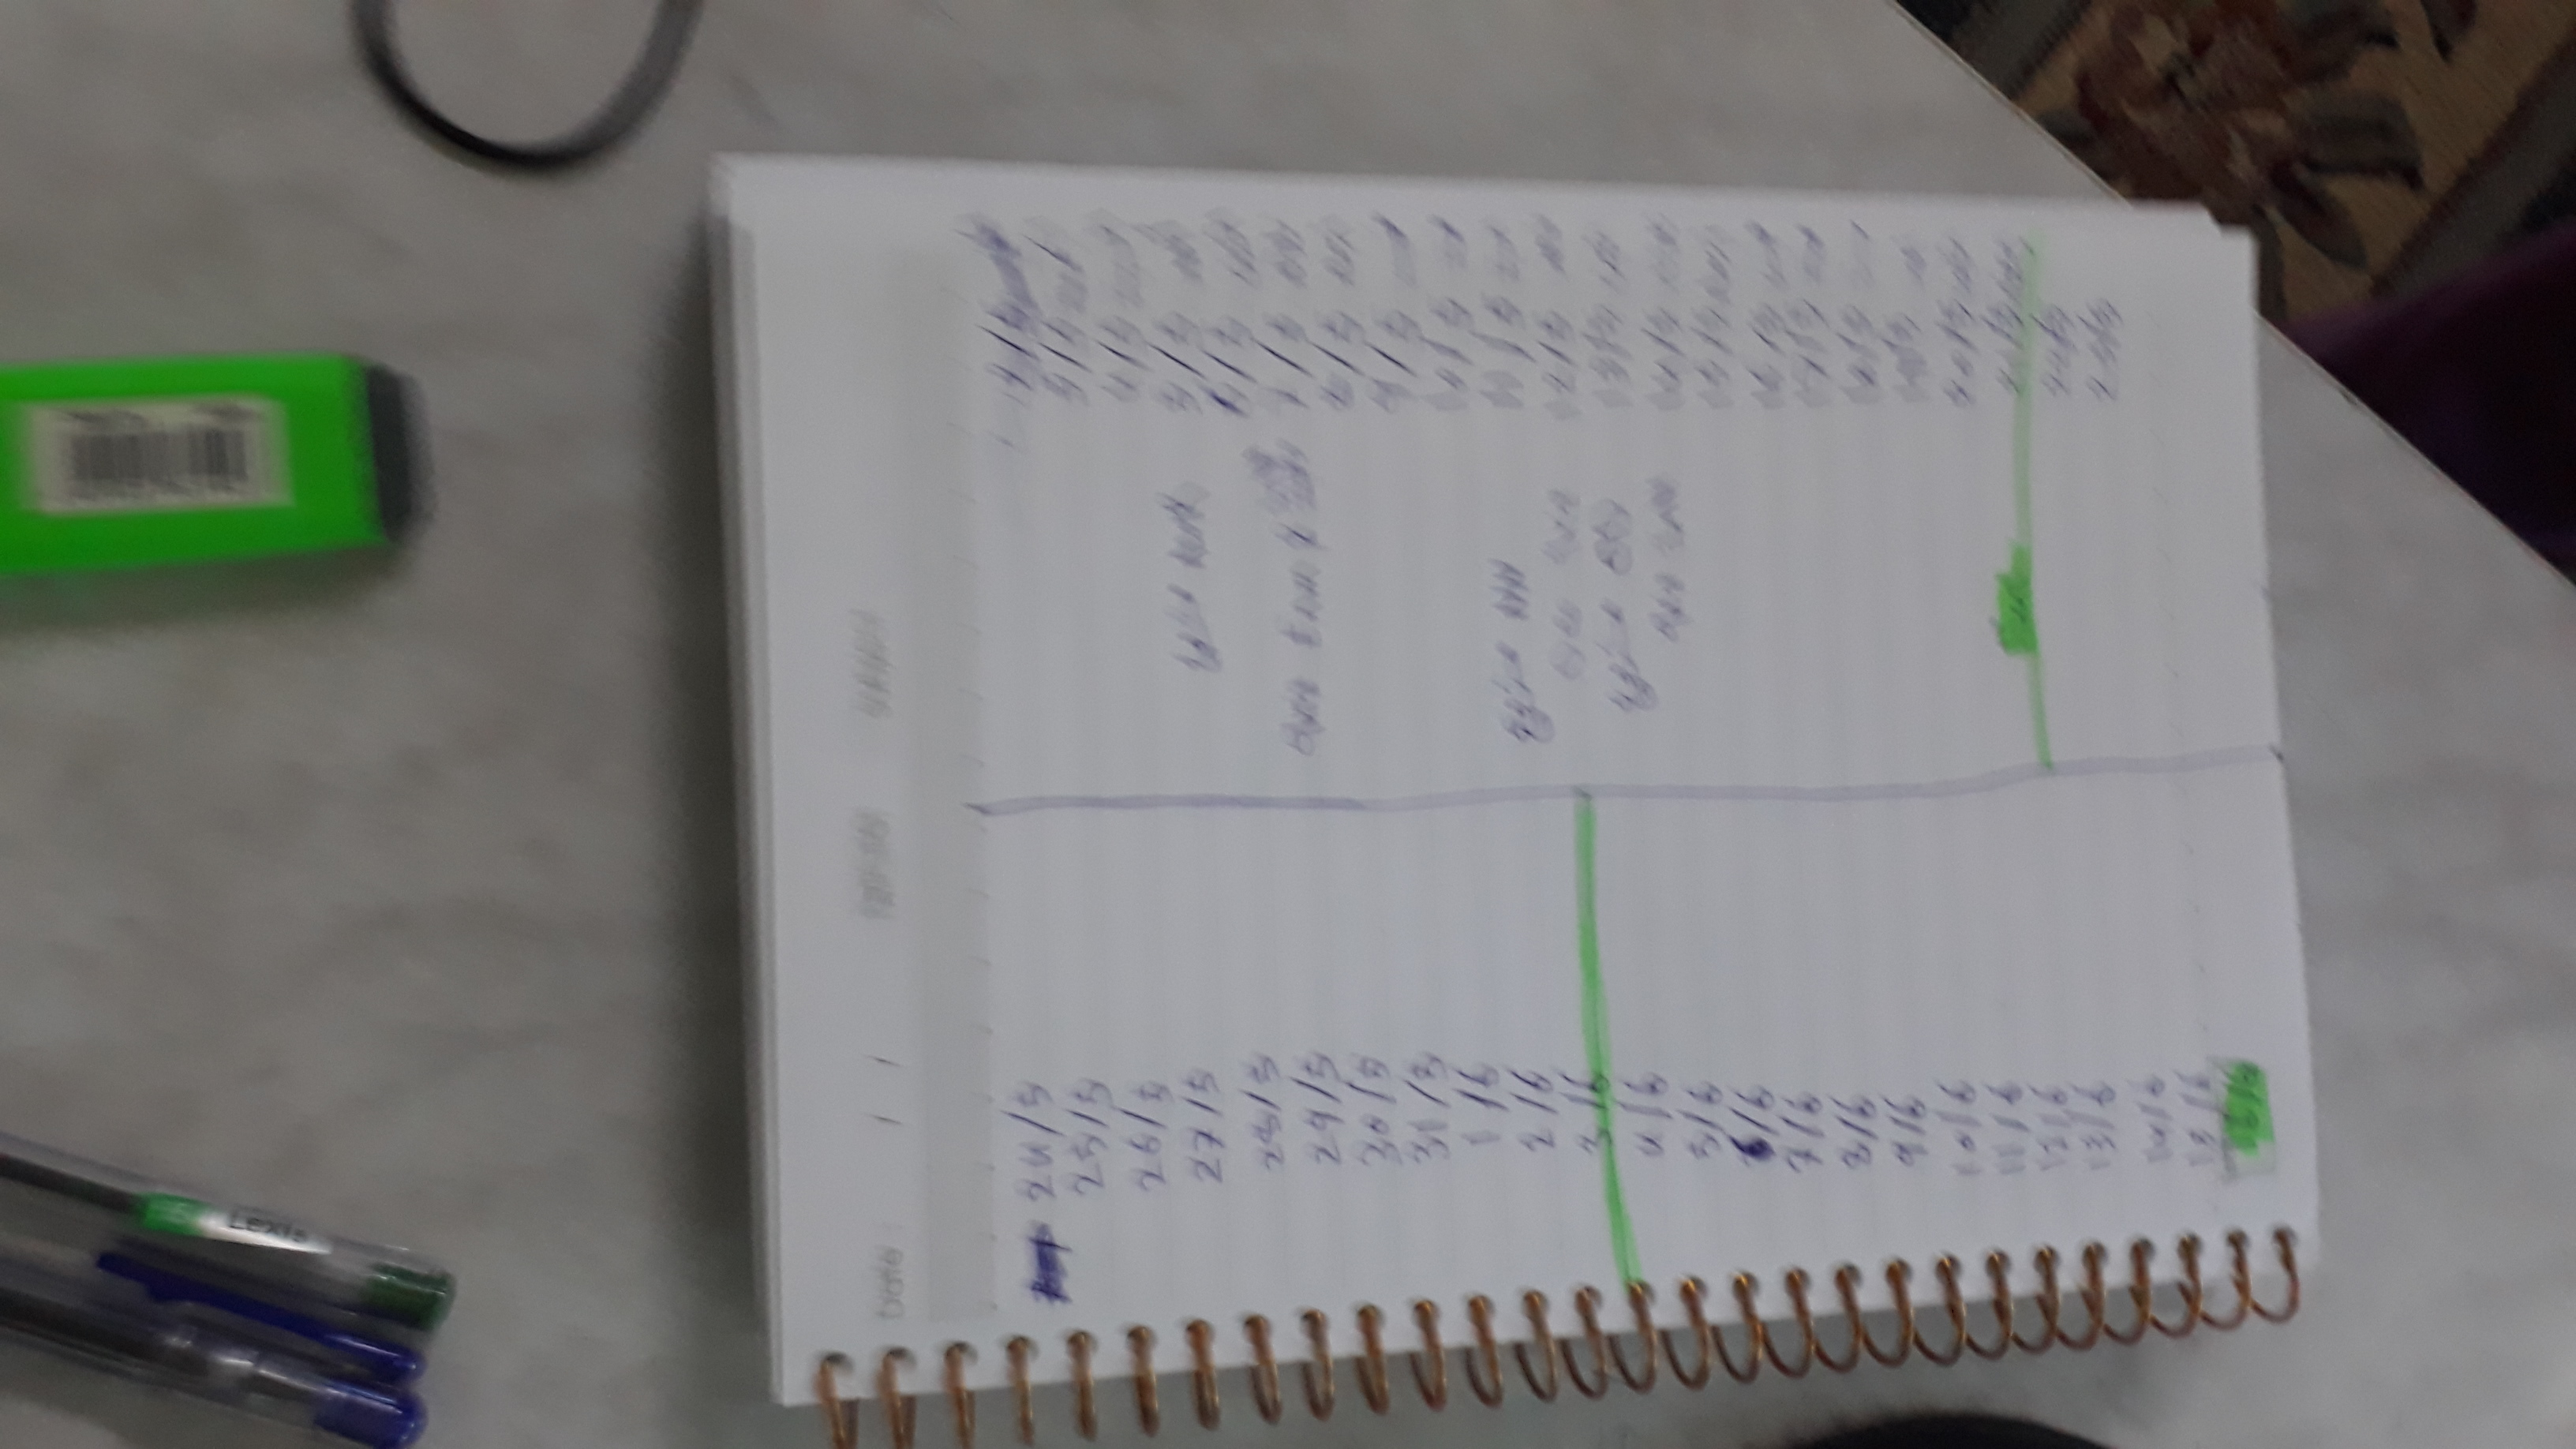dftar: (725, 195, 2275, 1449)
